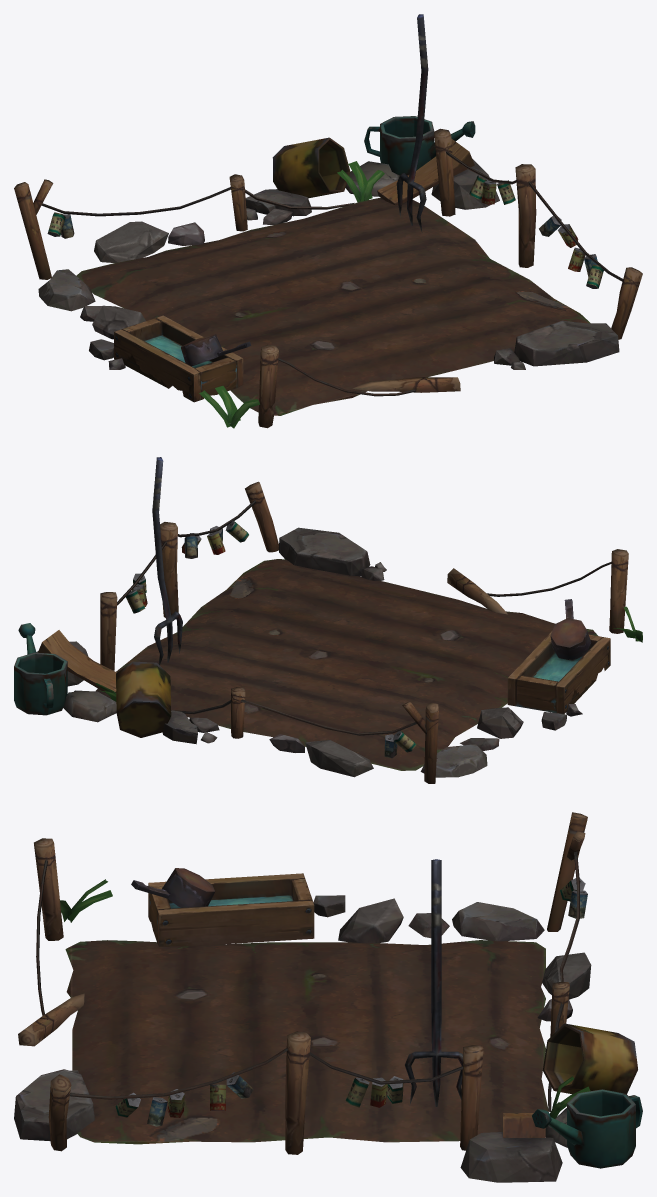
File: GardenBed.FBX
The picture shows the model from 3 angles, top to bottom: view 1: azimuth 30°, elevation 25°; view 2: azimuth 150°, elevation 25°; view 3: azimuth 270°, elevation 25°; orthographic projection. The views are drawn at different scales.
Parts seen in each view (by area): view 1: GardenBed; view 2: GardenBed; view 3: GardenBed.
Part boxes in pixels (left/top/right/bottom): GardenBed: left=14, top=14, right=642, bottom=428; GardenBed: left=14, top=457, right=642, bottom=783; GardenBed: left=14, top=812, right=642, bottom=1182.
Bounding box in the file's own units: 3.71 × 1.68 × 3.51.
1 material, 1 textured.
